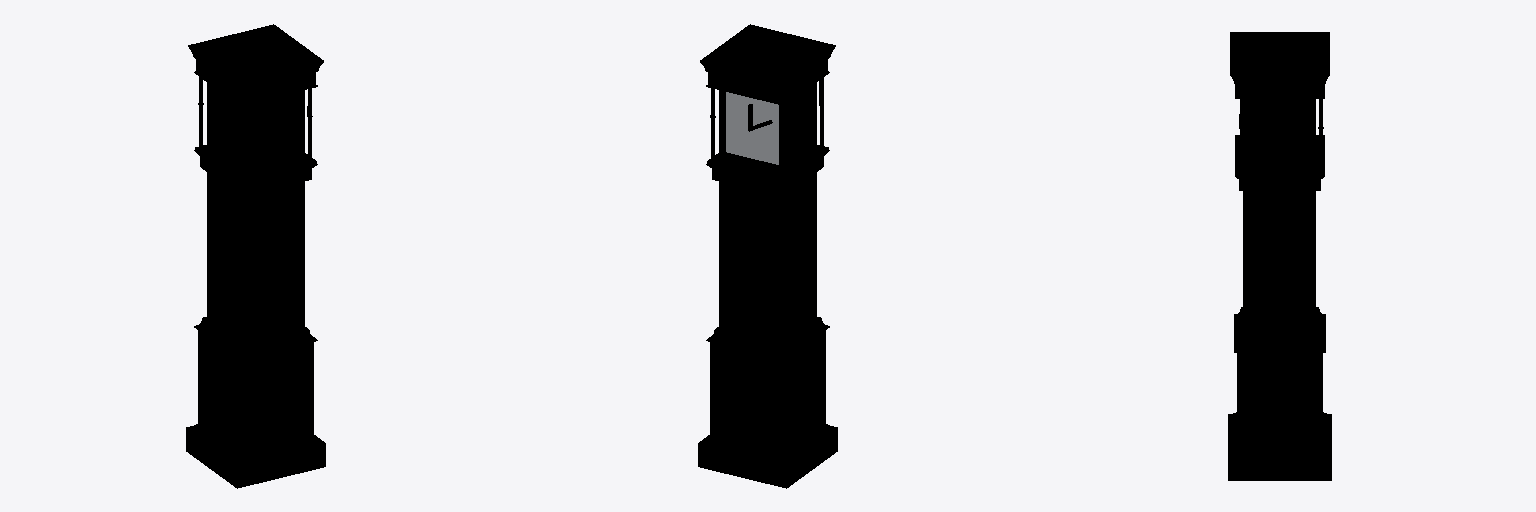
File: clock.obj
The picture shows the model from 3 angles: view 1: azimuth 30°, elevation 25°; view 2: azimuth 150°, elevation 25°; view 3: azimuth 270°, elevation 25°; orthographic projection.
Parts seen in each view (by area): view 1: clockBase, clockBody, clockHat, clockHeadCase, clockNeck; view 2: clockBase, clockBody, clockHat, clockHeadCase, pCube1, clockNeck; view 3: clockBase, clockBody, clockHat, clockHeadCase, clockNeck.
Boxes of the visible parts, box(x1,y1,x2,y2) form: clockBase: box(186, 317, 325, 488); clockBody: box(207, 173, 304, 344); clockHat: box(188, 24, 323, 105); clockHeadCase: box(207, 83, 304, 174); clockNeck: box(194, 145, 317, 196); clockBase: box(698, 305, 837, 488); clockBody: box(719, 173, 816, 343); clockHat: box(700, 24, 835, 105); clockHeadCase: box(719, 83, 816, 174); pCube1: box(726, 92, 778, 164); clockNeck: box(706, 145, 829, 196); clockBase: box(1228, 307, 1331, 480); clockBody: box(1243, 191, 1315, 338); clockHat: box(1230, 32, 1329, 98); clockHeadCase: box(1244, 99, 1315, 168); clockNeck: box(1235, 135, 1324, 190).
Bounding box in the file's own units: 7.66 × 33.25 × 7.66.